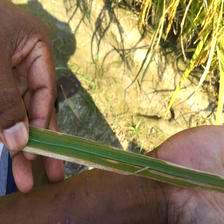2 BacterialBlight: (17, 137, 149, 184)
